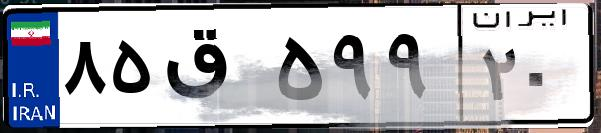0: (525, 38, 570, 115)
2: (475, 38, 525, 113)
5: (270, 28, 330, 110), (110, 28, 158, 98)
8: (57, 26, 110, 100)
9: (385, 28, 445, 110), (330, 28, 385, 110)
ق: (158, 20, 270, 120)
